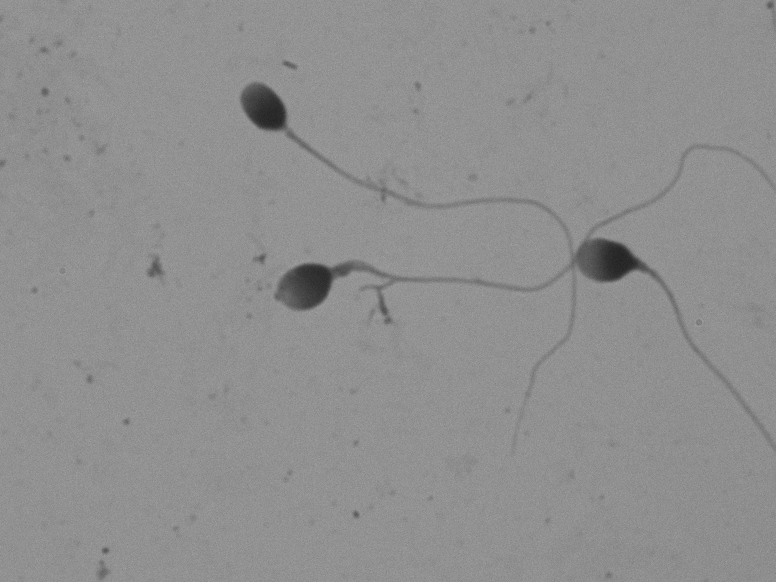Abnormal: (547, 192, 750, 470), (251, 236, 560, 361)
Normal: (212, 64, 575, 249)
